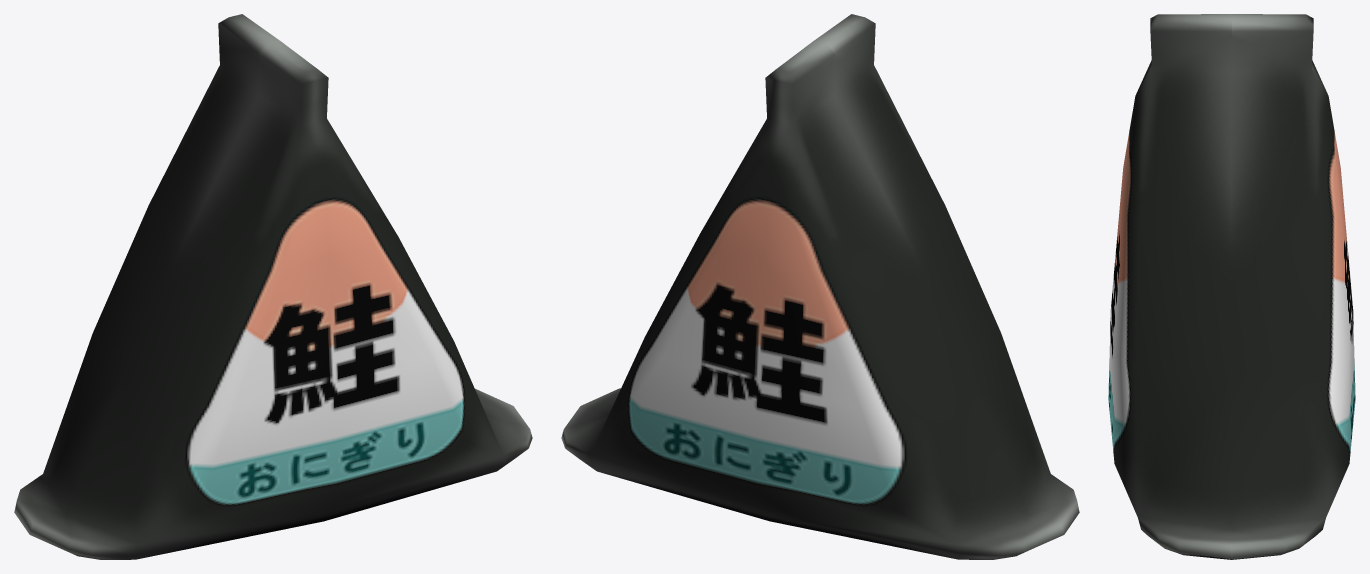
Rendered from 011-Onigiri1.FBX.
3 renders of one model, left to right at view 1: azimuth 30°, elevation 25°; view 2: azimuth 150°, elevation 25°; view 3: azimuth 270°, elevation 25°, orthographic. The views are drawn at different scales.
Parts seen in each view (by area): view 1: 011-Onigiri1; view 2: 011-Onigiri1; view 3: 011-Onigiri1.
Part boxes in pixels (box(x1,y1,x2,y2)): 011-Onigiri1: box(14, 14, 532, 559); 011-Onigiri1: box(561, 14, 1079, 559); 011-Onigiri1: box(1108, 14, 1355, 559).
Bounding box in the file's own units: 19.87 × 17.17 × 8.9.
